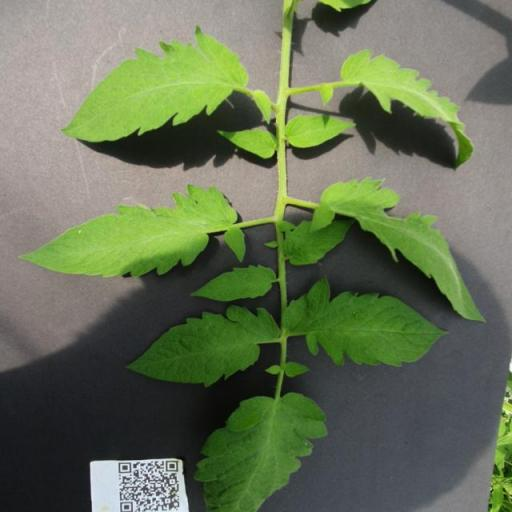Healthy: (310, 177, 490, 325), (60, 26, 251, 144), (16, 182, 246, 278), (339, 47, 477, 171), (191, 391, 328, 512), (282, 274, 450, 368), (124, 305, 282, 388), (189, 265, 277, 303)
